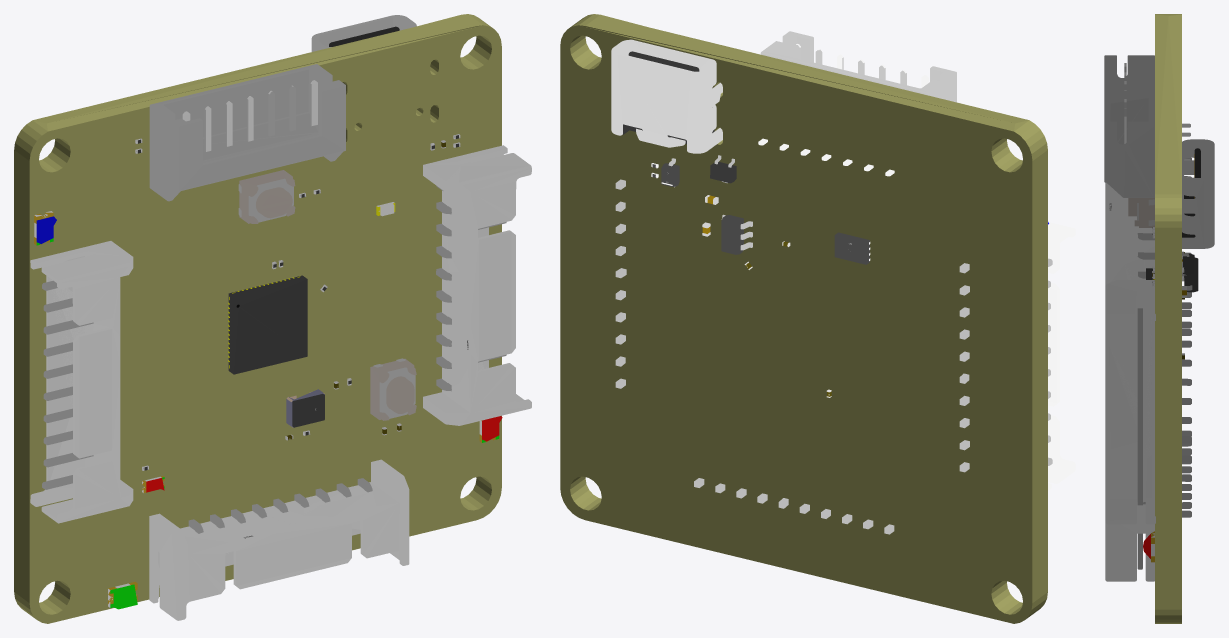
Rendered from OBJ_PCB_DustArrow.obj.
3 renders of one model, left to right at view 1: azimuth 30°, elevation 25°; view 2: azimuth 150°, elevation 25°; view 3: azimuth 270°, elevation 25°, orthographic. The views are drawn at different scales.
Size of the model in its own units: 176 by 177 by 41.1.
